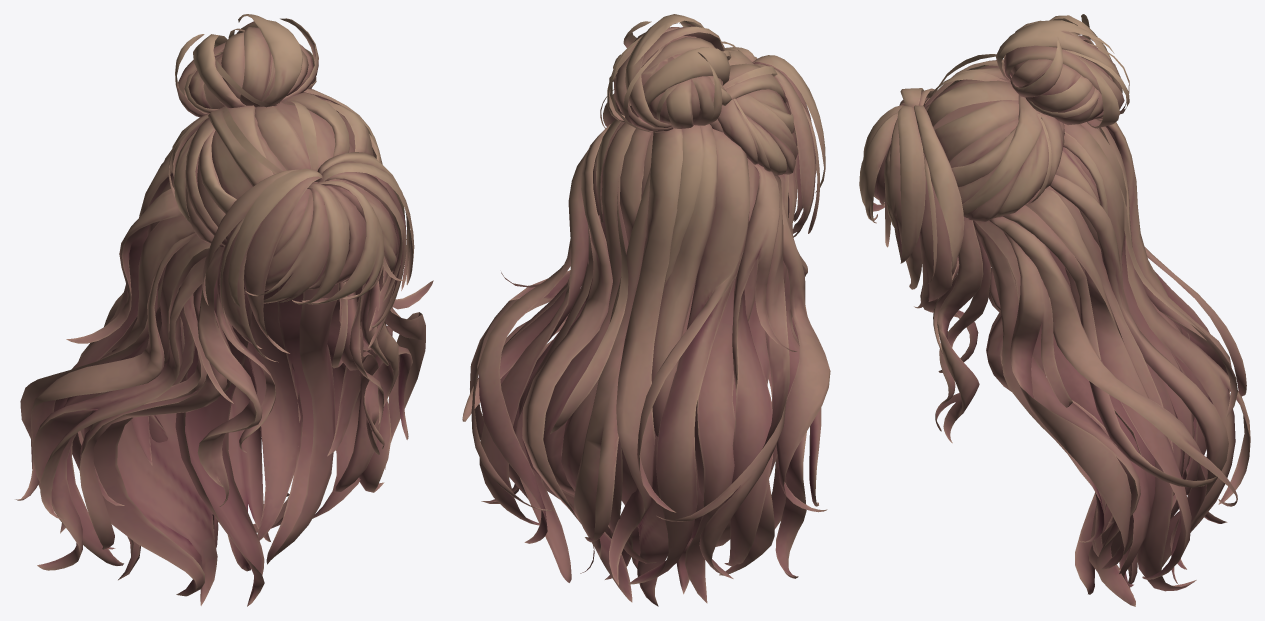
File: Sketchfab_2020_04_15_12_16_04.fbx
3 views of the same model, side by side, from view 1: azimuth 30°, elevation 25°; view 2: azimuth 150°, elevation 25°; view 3: azimuth 270°, elevation 25° (orthographic). The views are drawn at different scales.
Parts seen in each view (by area): view 1: 07; view 2: 07; view 3: 07.
Part boxes in pixels (box(x1,y1,x2,y2)): 07: box(15, 14, 433, 606); 07: box(462, 14, 830, 606); 07: box(859, 14, 1250, 606).
Bounding box in the file's own units: 3293 × 4835 × 2970.
